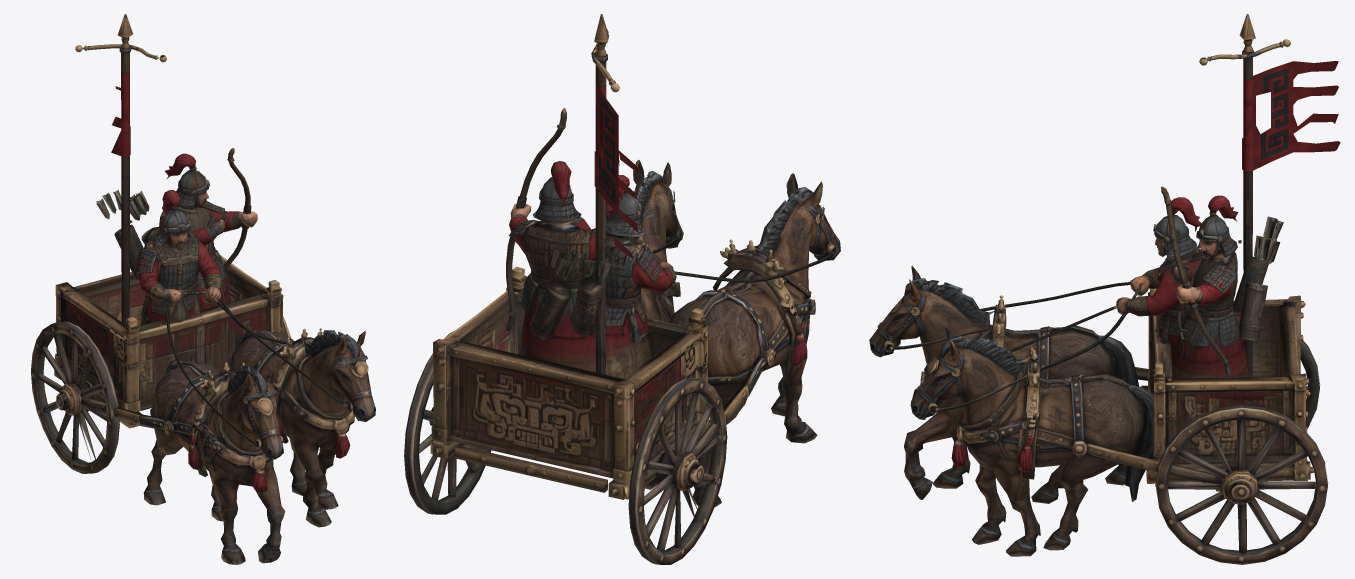
File: chariot-ancient.glb
3 renders of one model, left to right at view 1: azimuth 30°, elevation 25°; view 2: azimuth 150°, elevation 25°; view 3: azimuth 270°, elevation 25°, orthographic. The views are drawn at different scales.
Visible parts, largest first — view 1: tripo_7e84b784_11f6_4ad3_a85a_79eb690966b8; view 2: tripo_7e84b784_11f6_4ad3_a85a_79eb690966b8; view 3: tripo_7e84b784_11f6_4ad3_a85a_79eb690966b8.
Boxes of the visible parts, bbox=[...] form: tripo_7e84b784_11f6_4ad3_a85a_79eb690966b8: bbox=[31, 14, 375, 564]; tripo_7e84b784_11f6_4ad3_a85a_79eb690966b8: bbox=[404, 14, 840, 564]; tripo_7e84b784_11f6_4ad3_a85a_79eb690966b8: bbox=[869, 14, 1340, 564].
Size of the model in its own units: 0.5083 by 0.9995 by 0.8804.
1 material, 1 textured.
